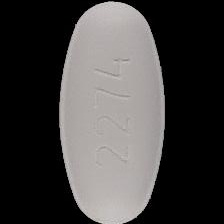50436-6051: (0, 0, 224, 224)
